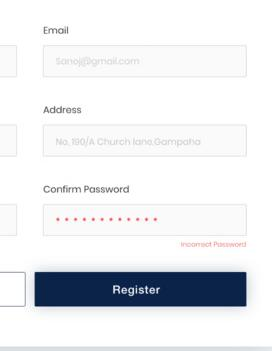button: (32, 270, 247, 308)
field: (39, 201, 249, 239), (39, 41, 250, 78), (40, 121, 250, 157)
field_with_label: (37, 24, 251, 81), (37, 184, 250, 240), (38, 106, 253, 158)
